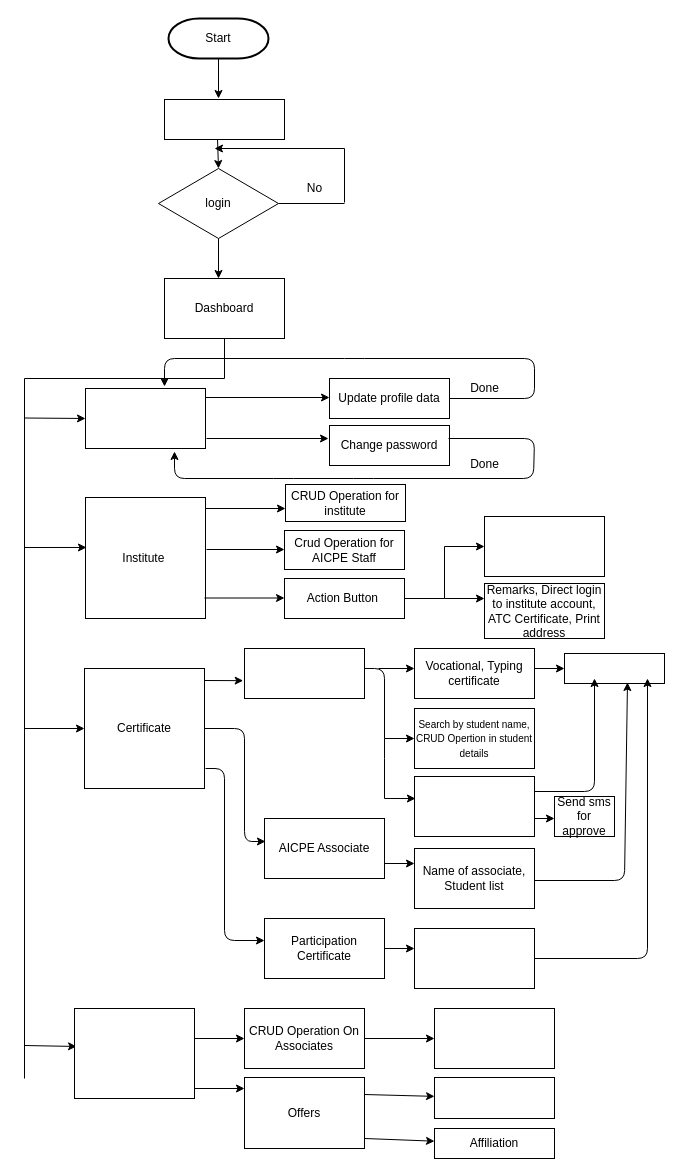
Some shapes in this 682 by 1176 pixel diagram are drawn without their labels. The centre of each missing label's shape, as x and y in pixels:
"Admin" belongs at point 224,119.
"Admin Profile" belongs at point 145,418.
"AICPE" belongs at point 304,673.
"Associates" belongs at point 134,1053.
"List Associates,No. of courses, Total Admission" belongs at point 494,1038.
"List institute wise and CRUD Operation" belongs at point 474,958.
"Option for approved" belongs at point 474,806.
"Partnership" belongs at point 494,1097.
"Print, Reprint" belongs at point 614,668.
"Send SMS for recover password,document require sms" belongs at point 544,546.
